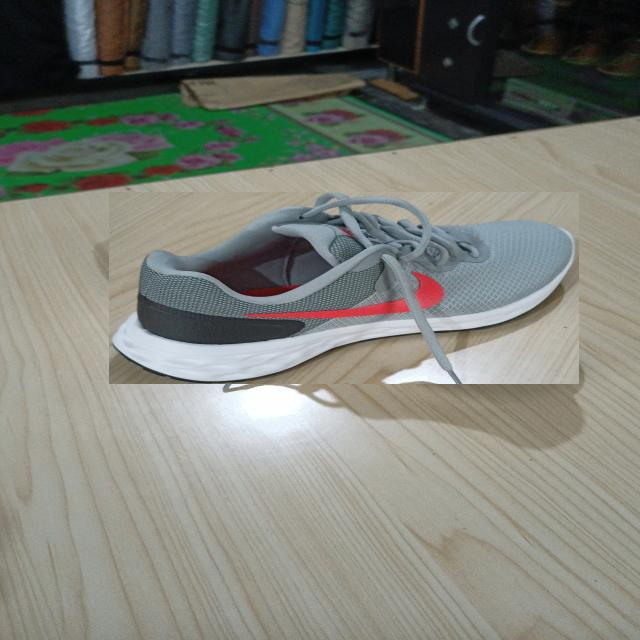shoe: (109, 192, 579, 384)
